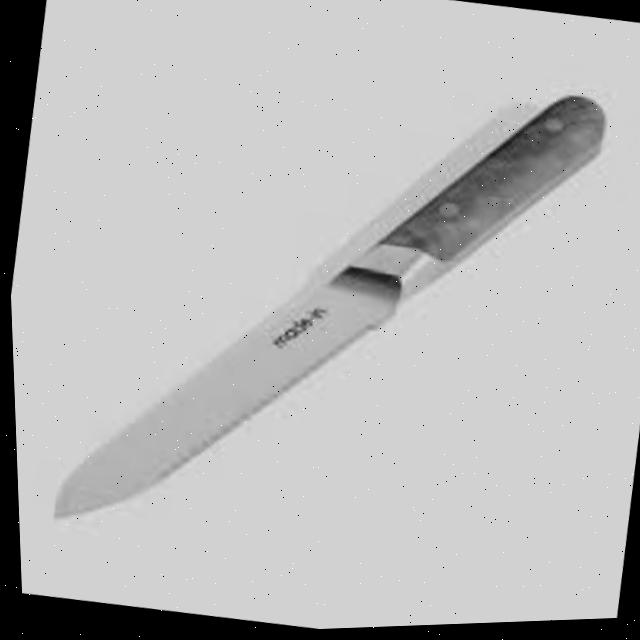Knife: (33, 21, 620, 597)
